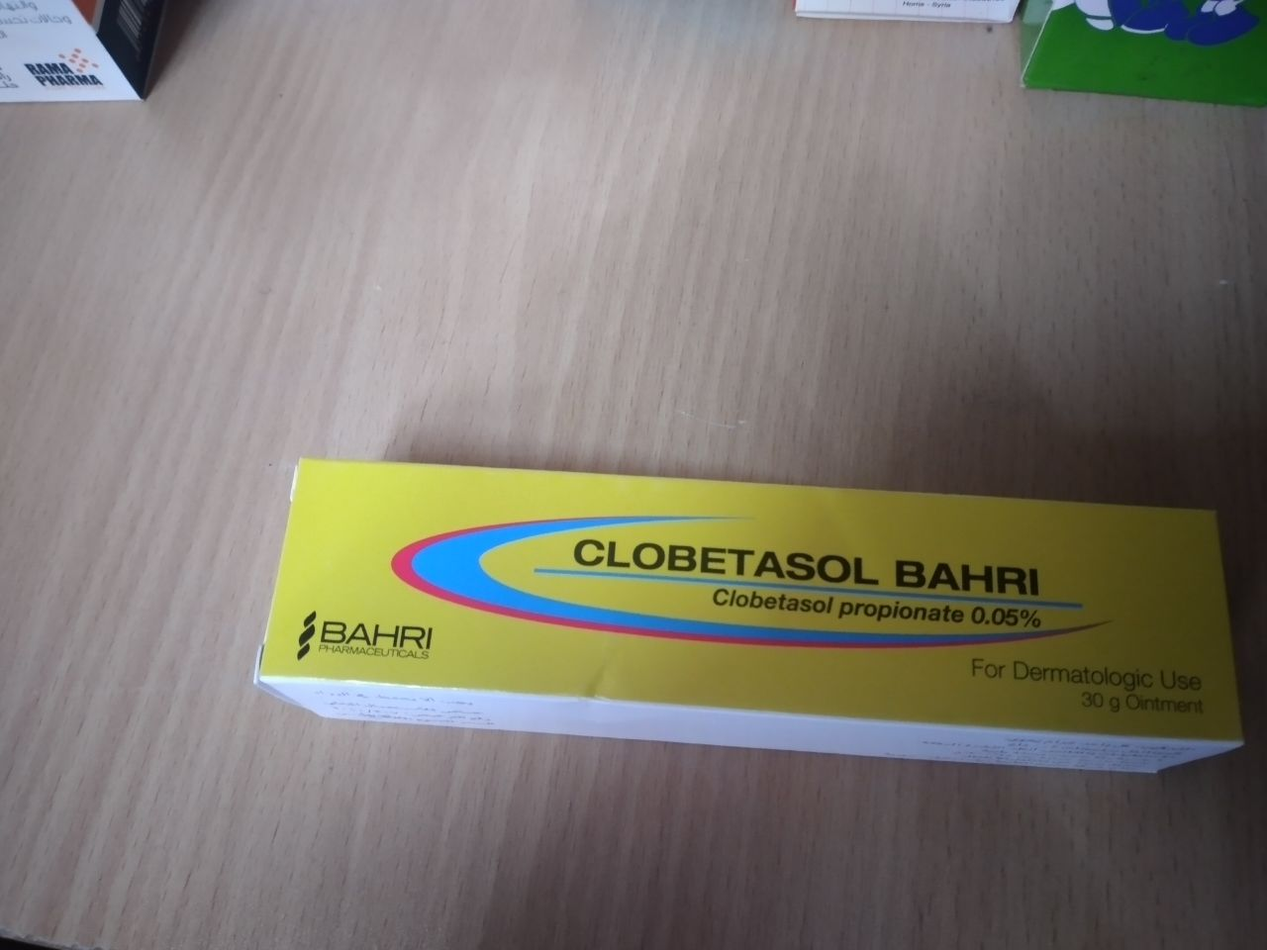Medicine: (250, 448, 1267, 774)
